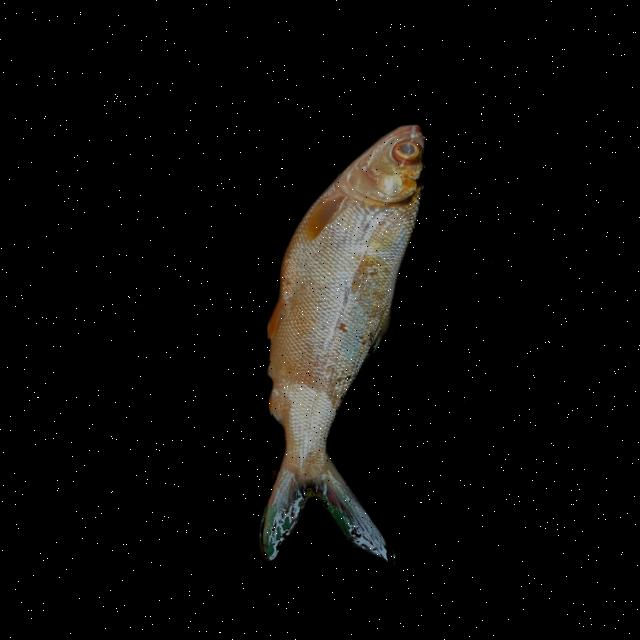560 g: (218, 101, 481, 584)
